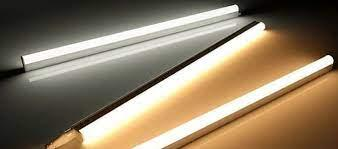Lamp: (59, 17, 275, 149), (124, 51, 338, 149)
